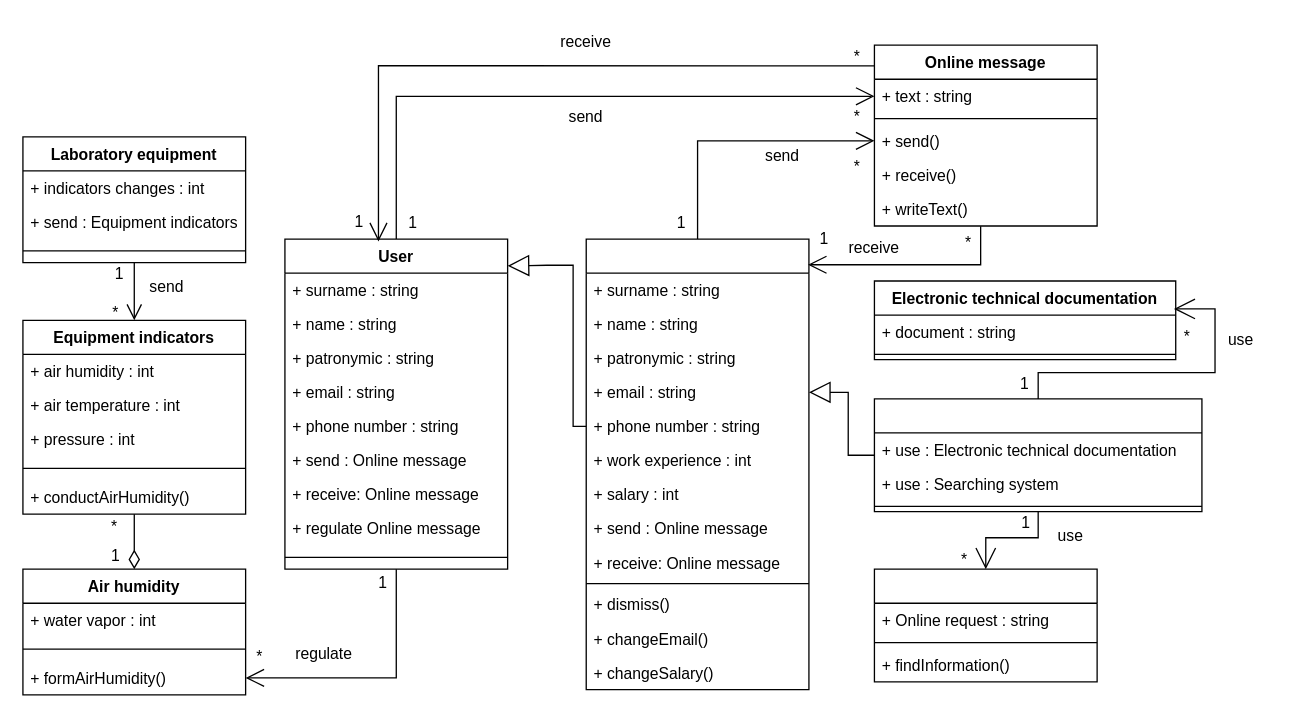
Image size: 1303x720. Some labels were removed from this diagram. The box of each missing label's shape, as (x1, y1, x2, y2) in pixels:
Employee: (585, 238, 809, 690)
Office worker: (873, 398, 1202, 512)
Searching system: (873, 568, 1097, 682)
